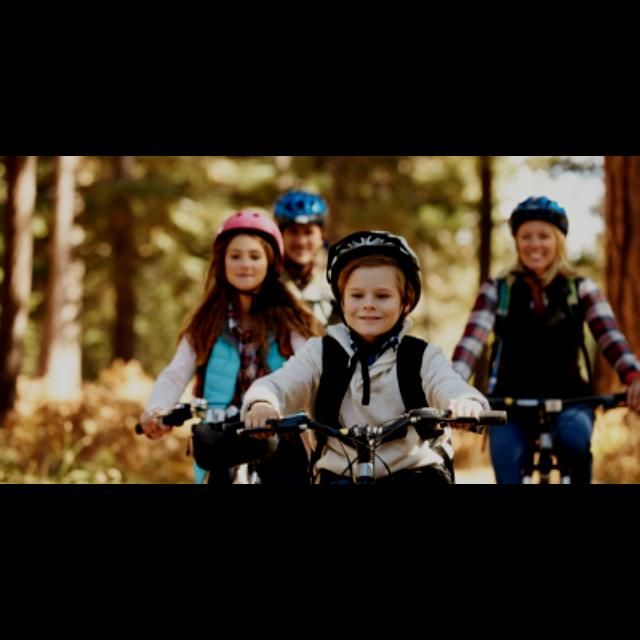With Helmet: (317, 223, 427, 359), (498, 192, 584, 278), (208, 204, 284, 298)
